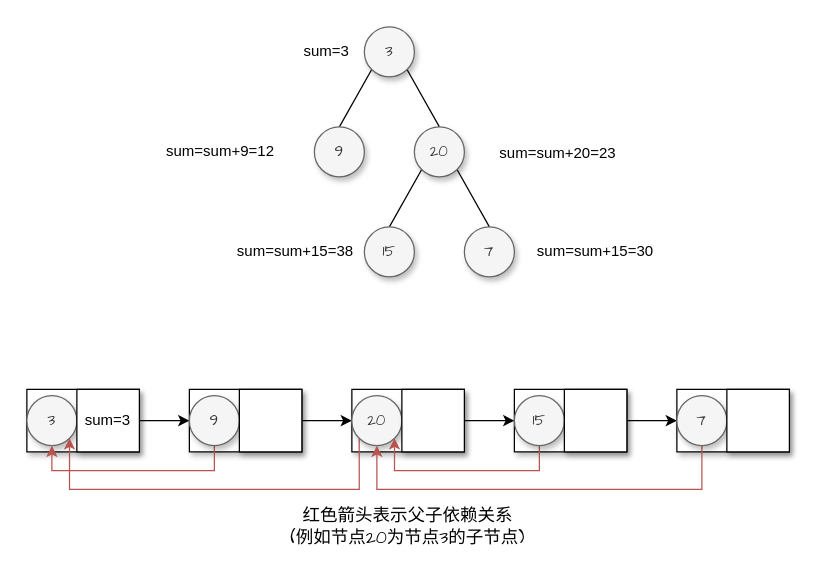
Some shapes in this 819 by 583 pixel diagram are drawn without their labels. The centre of each missing label's shape, as x and y in pixels:
sum=12: point (271, 422)
sum=23: point (434, 422)
sum=30: point (759, 422)
sum=38: point (596, 422)
